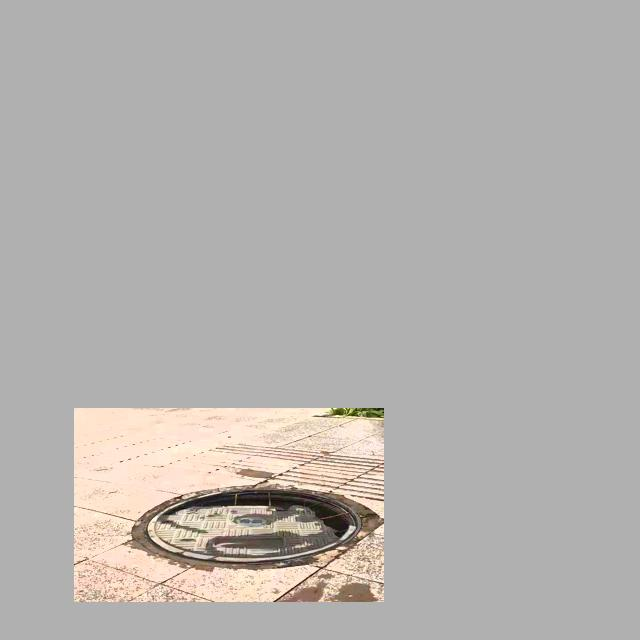broke: (145, 487, 363, 564)
